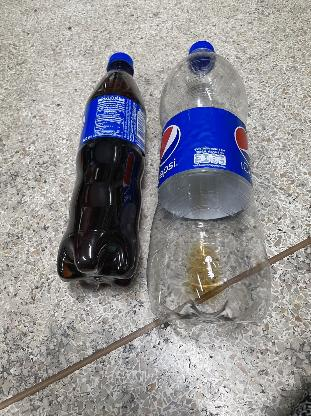Plastic Bottle: (149, 27, 277, 342), (50, 38, 148, 296)
